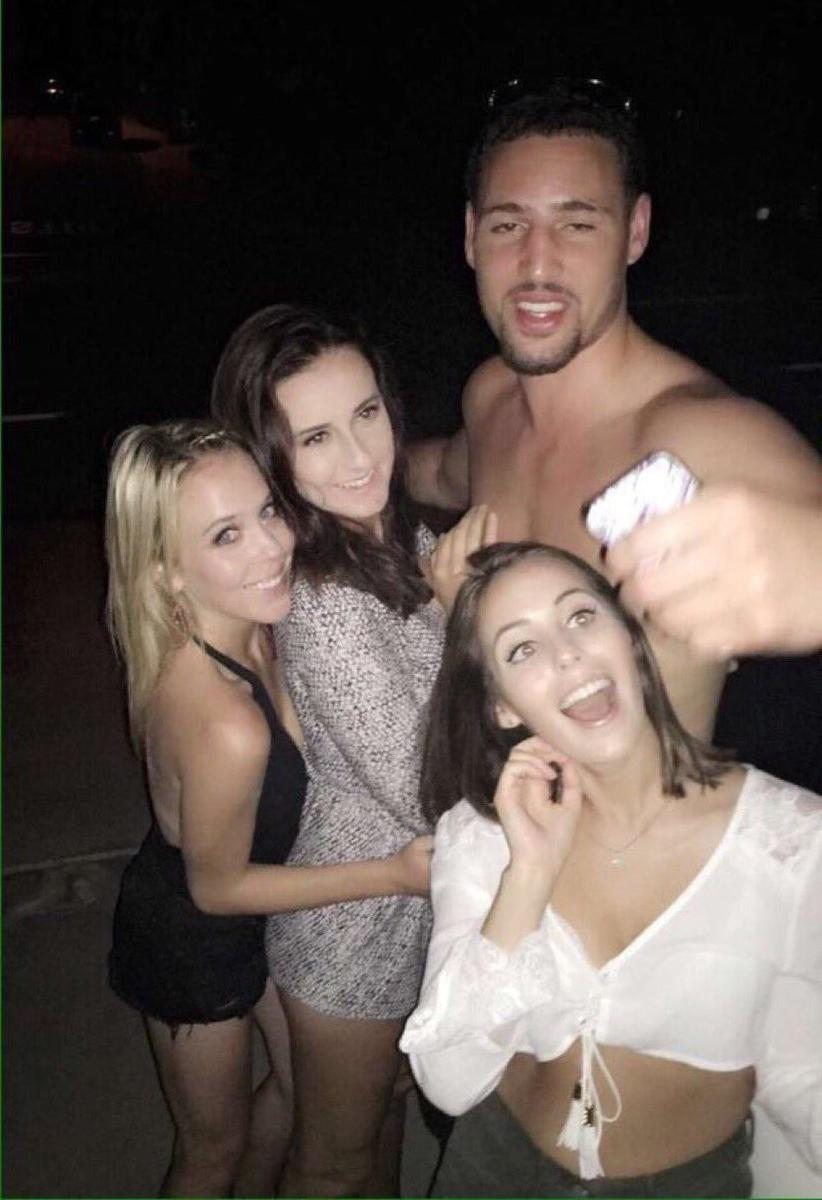Drunk: (486, 108, 609, 364), (473, 591, 642, 753), (173, 456, 291, 623), (286, 368, 395, 512)
